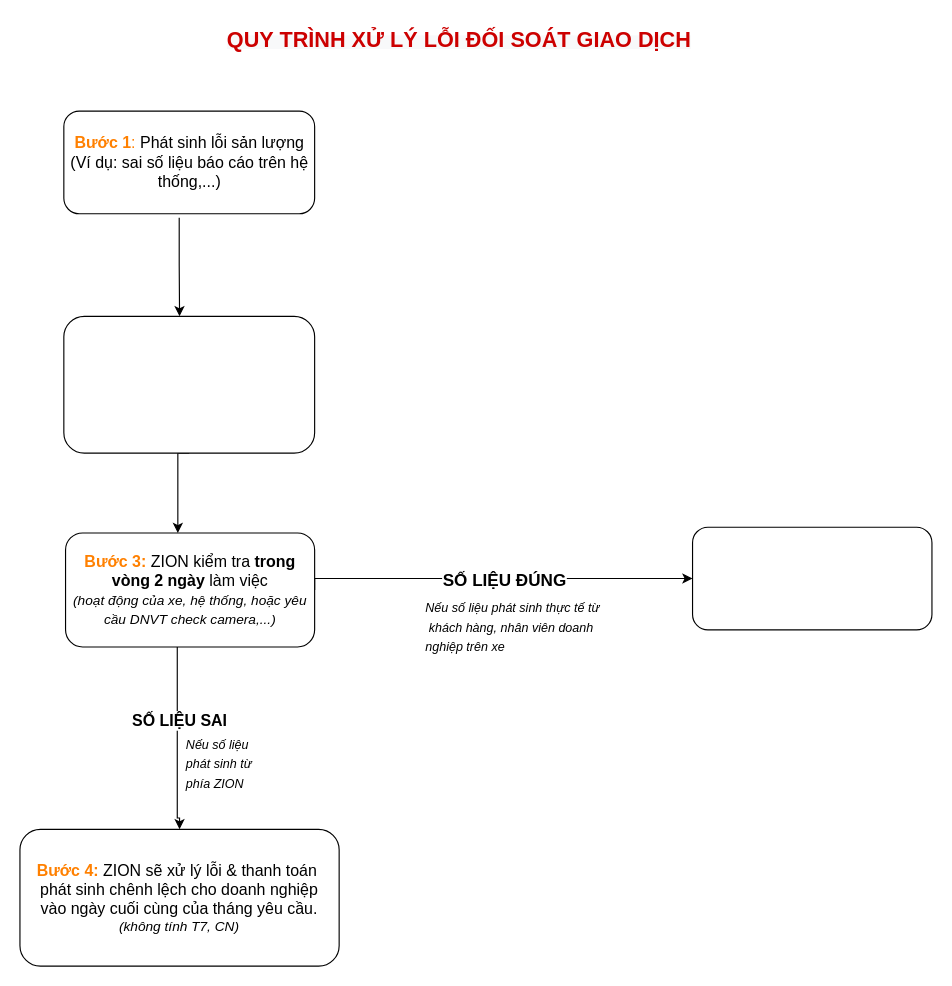
Image size: 952x986. Some labels were removed from this diagram. Here are the shapes that lost their labels. From the top down, the centre of each, then its label:
the point at 189,384: Bước 2: Doanh nghiệp thông báo ZION trong vòng 1 tuần kể từ ngày phát sinh
the point at 811,578: Bước 4: ZION phản hồi xác nhận số liệu trên Dashboard với doanh nghiệp
